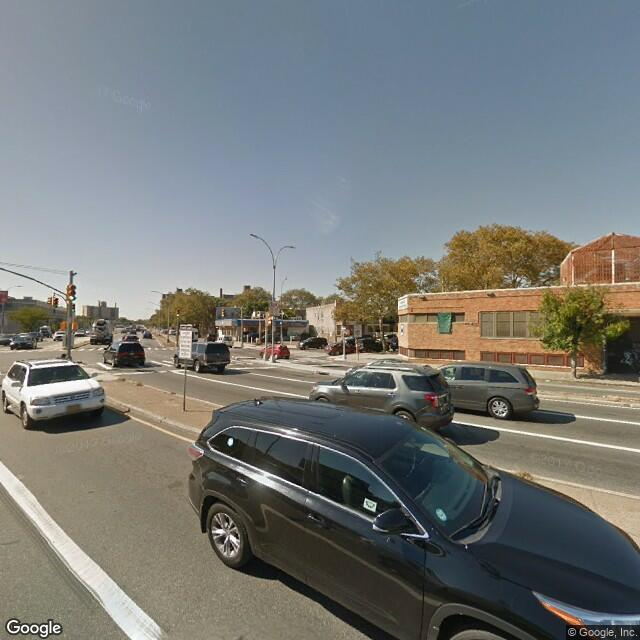litter: (542, 378, 551, 381)
